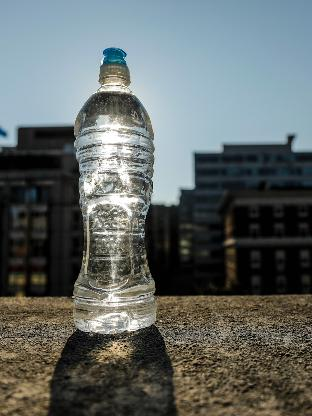Plastic Bottle: (69, 44, 163, 348)
